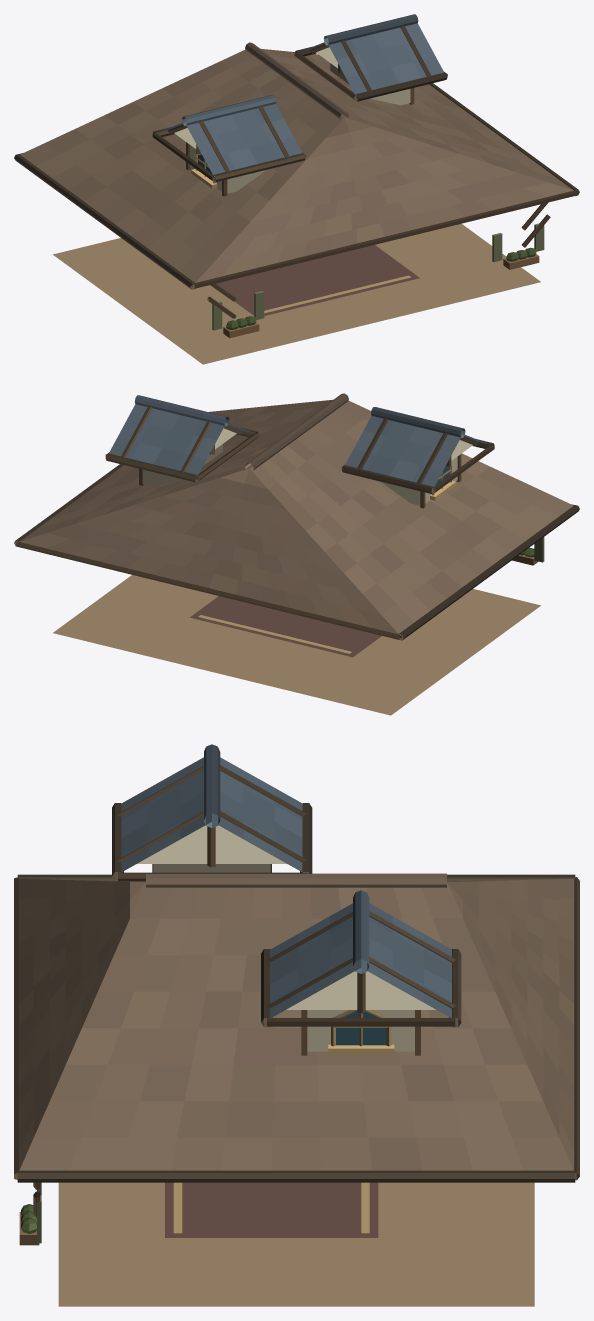
3 renders of one model, top to bottom at view 1: azimuth 30°, elevation 25°; view 2: azimuth 150°, elevation 25°; view 3: azimuth 270°, elevation 25°, orthographic. The views are drawn at different scales.
Parts seen in each view (by area): view 1: cf9ad392e101321c07c22b1f639255b1bf04202620d2e6bfdfa9b754a99d; view 2: cf9ad392e101321c07c22b1f639255b1bf04202620d2e6bfdfa9b754a99d; view 3: cf9ad392e101321c07c22b1f639255b1bf04202620d2e6bfdfa9b754a99d.
Boxes of the visible parts, x1=… form: cf9ad392e101321c07c22b1f639255b1bf04202620d2e6bfdfa9b754a99d: x1=14, y1=14, x2=579, y2=364; cf9ad392e101321c07c22b1f639255b1bf04202620d2e6bfdfa9b754a99d: x1=14, y1=393, x2=579, y2=715; cf9ad392e101321c07c22b1f639255b1bf04202620d2e6bfdfa9b754a99d: x1=14, y1=744, x2=579, y2=1306.
Size of the model in its own units: 10.02 by 5.04 by 7.97.
6 materials, 1 textured.
